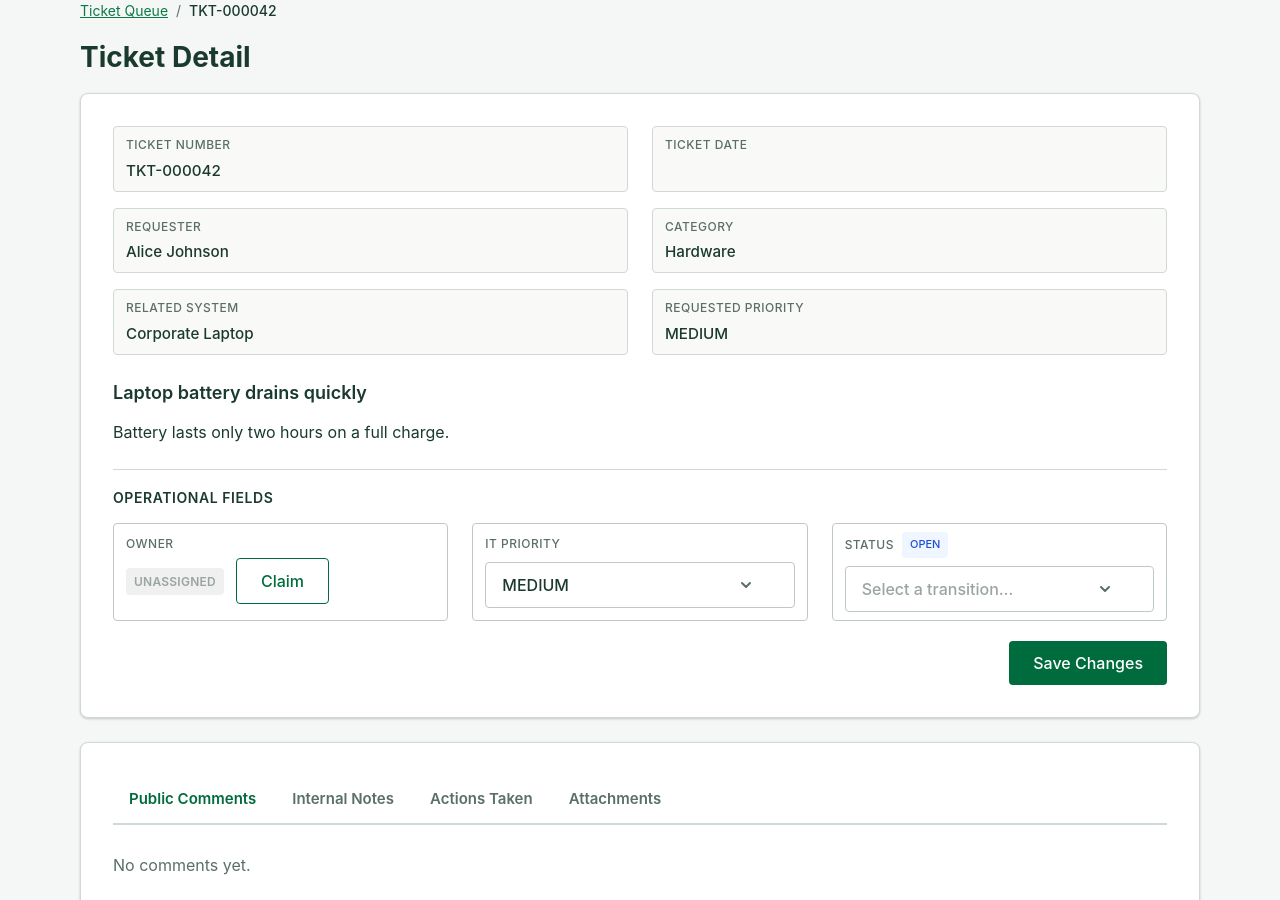
Test: StaffTicketDetail (UI-08) › keeps Internal Notes visually distinct with the internal-only hint
Check: the element with test id "operational-panel" is shown, box [113,469,1167,685]
Click the tab "Internal Notes" at {"x": 343, "y": 800}, box [276,775,410,825]
(page scrolled)
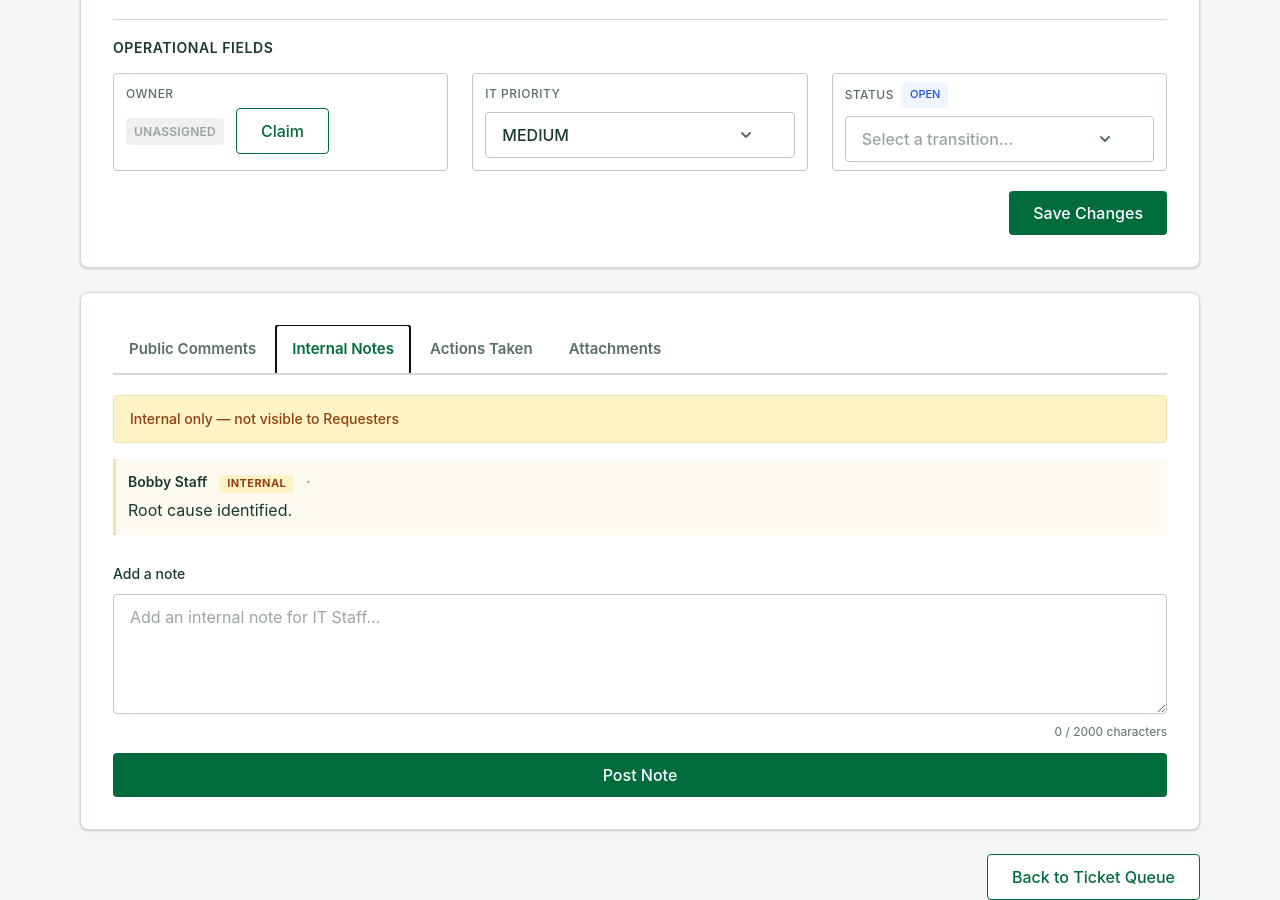
Check: the text with test id "notes-internal-hint" reads "Internal only — not visible to Requesters", box [130,410,399,427]
Check: the text "Internal" is shown, box [219,475,294,493]
Check: the text "Root cause identified." is shown, box [128,500,292,520]
